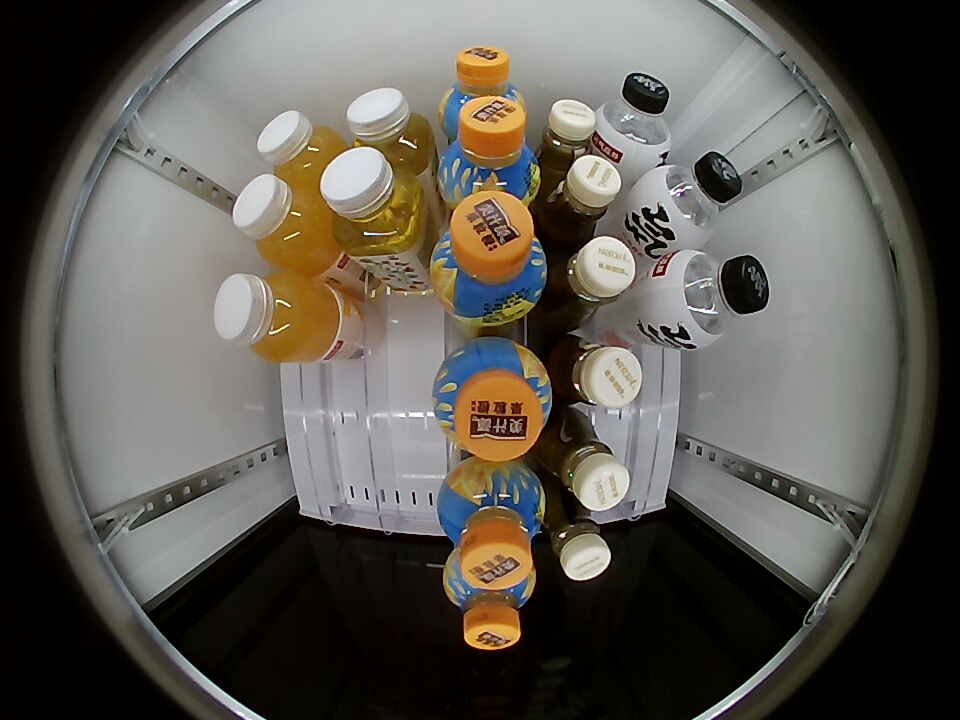chapai: (346, 88, 434, 175)
chapai2: (320, 146, 427, 259)
guolicheng: (429, 189, 548, 325), (431, 339, 553, 462), (437, 463, 547, 591), (437, 95, 541, 206), (444, 557, 537, 649), (437, 48, 525, 130)
kafei: (536, 410, 631, 512), (545, 237, 637, 326), (540, 155, 623, 244), (546, 333, 642, 409), (537, 495, 611, 582), (537, 99, 597, 175)
weic: (214, 271, 341, 364), (233, 175, 342, 275), (258, 111, 349, 192)
yuanqishui: (657, 250, 769, 349), (638, 151, 743, 247), (594, 73, 672, 163)
